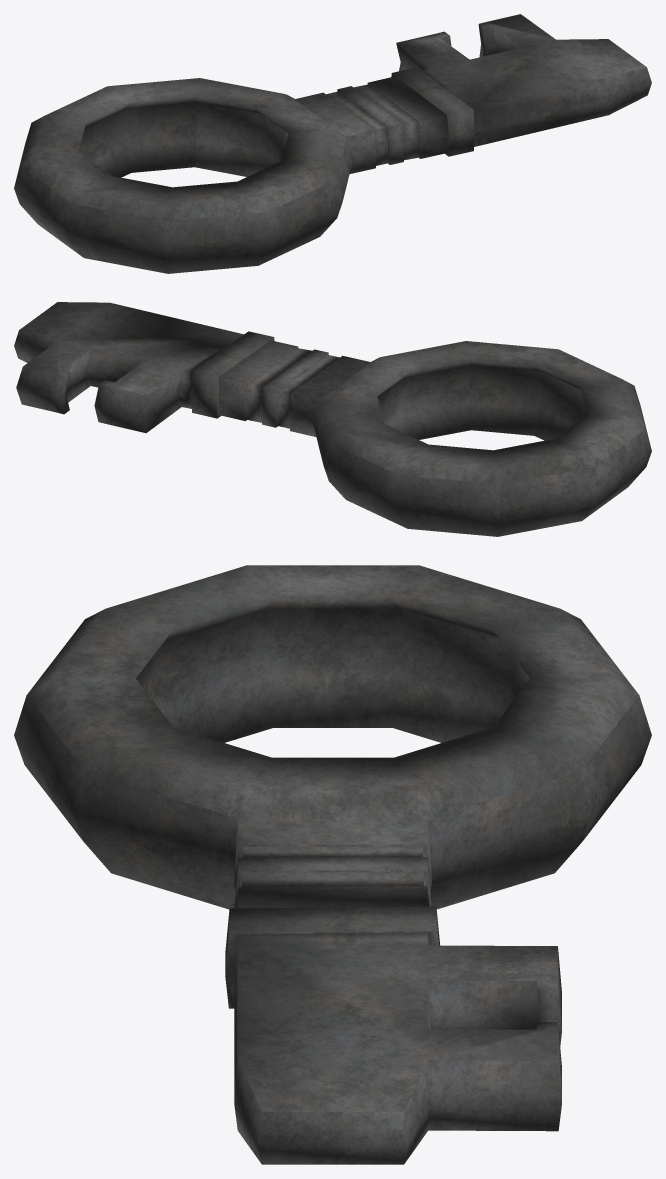
The model's file is key.glb.
3 views of the same model, one above another, from view 1: azimuth 30°, elevation 25°; view 2: azimuth 150°, elevation 25°; view 3: azimuth 270°, elevation 25° (orthographic). The views are drawn at different scales.
Visible parts, largest first — view 1: Key; view 2: Key; view 3: Key.
Part boxes in pixels (left/top/right/bottom): Key: left=14, top=14, right=651, bottom=273; Key: left=14, top=302, right=651, bottom=536; Key: left=14, top=565, right=651, bottom=1164.
Size of the model in its own units: 0.409 by 0.0456 by 0.208.
Materials: 1 (1 with a texture image).
